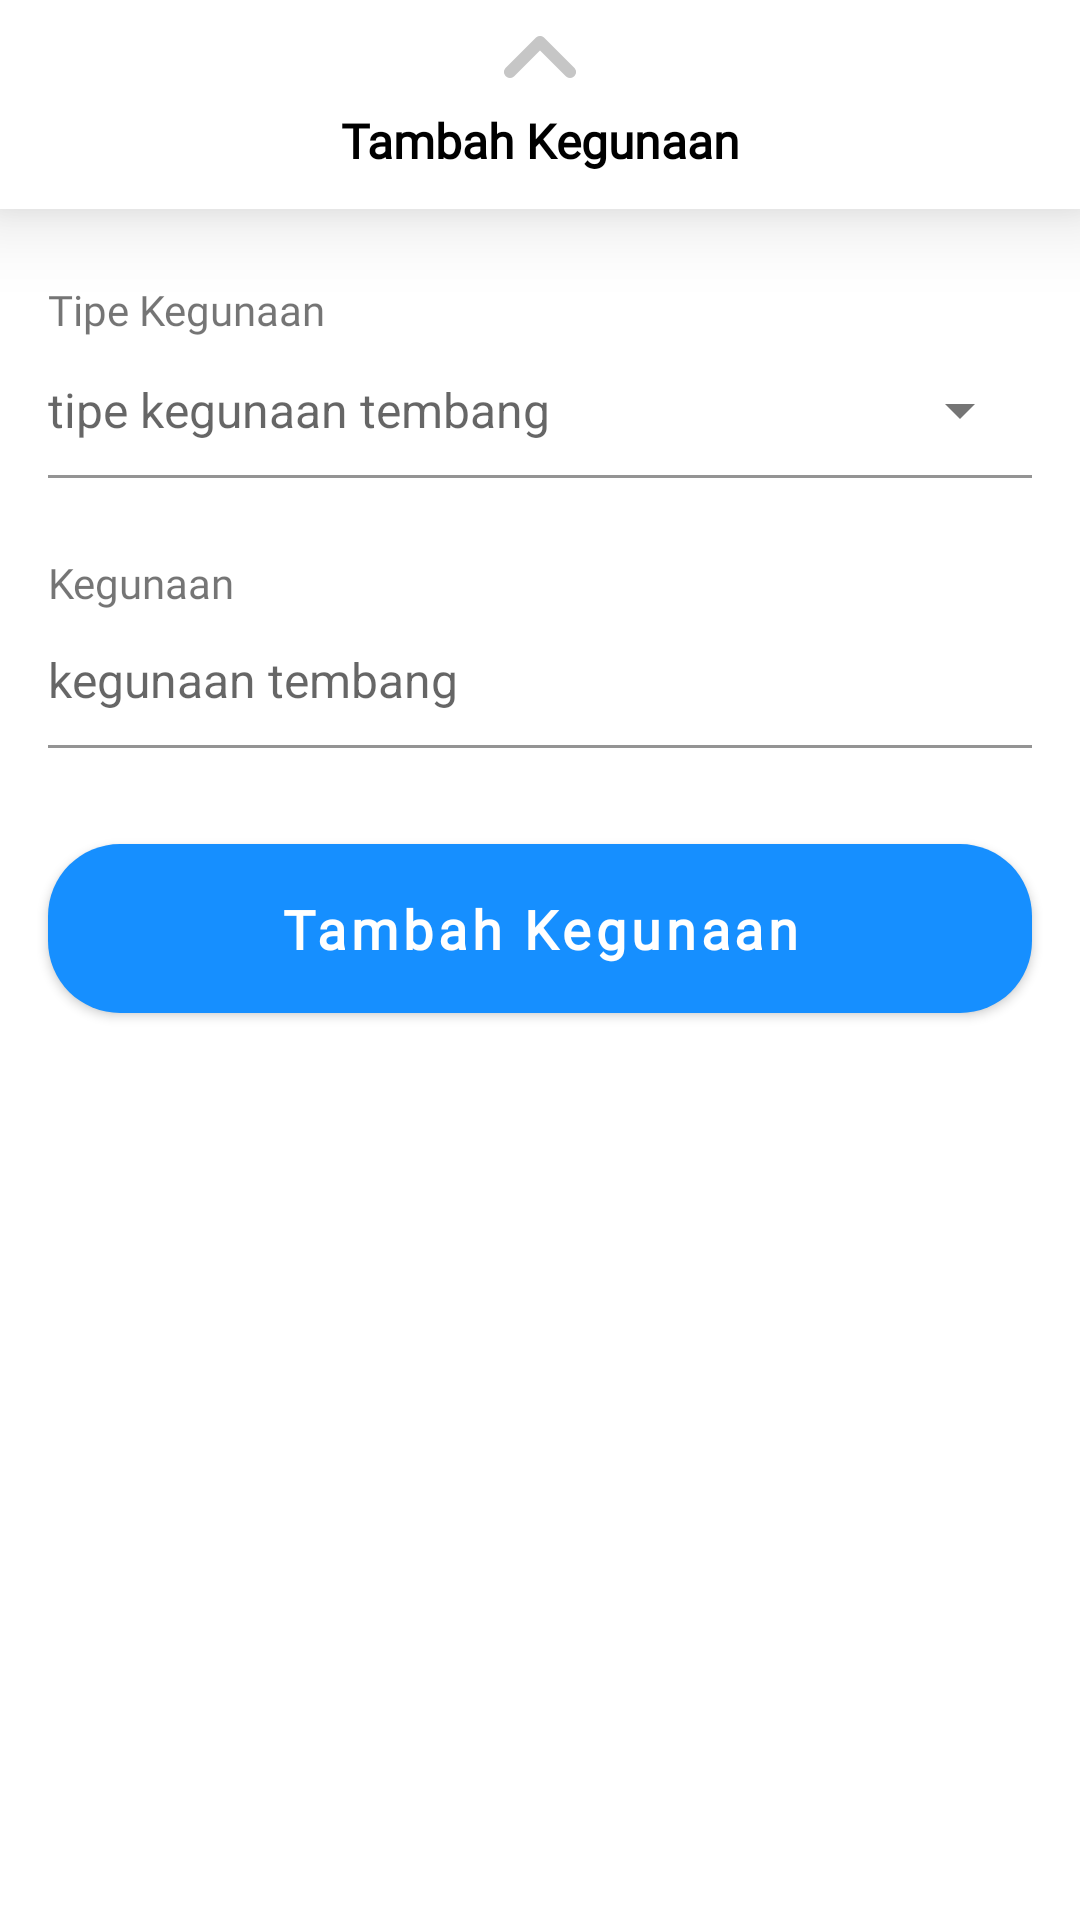

Named icons in this screenshot (1080*1920) and their bounding boxes, (x1, y1, x2, y2):
arrow top: (504, 36, 576, 78)
